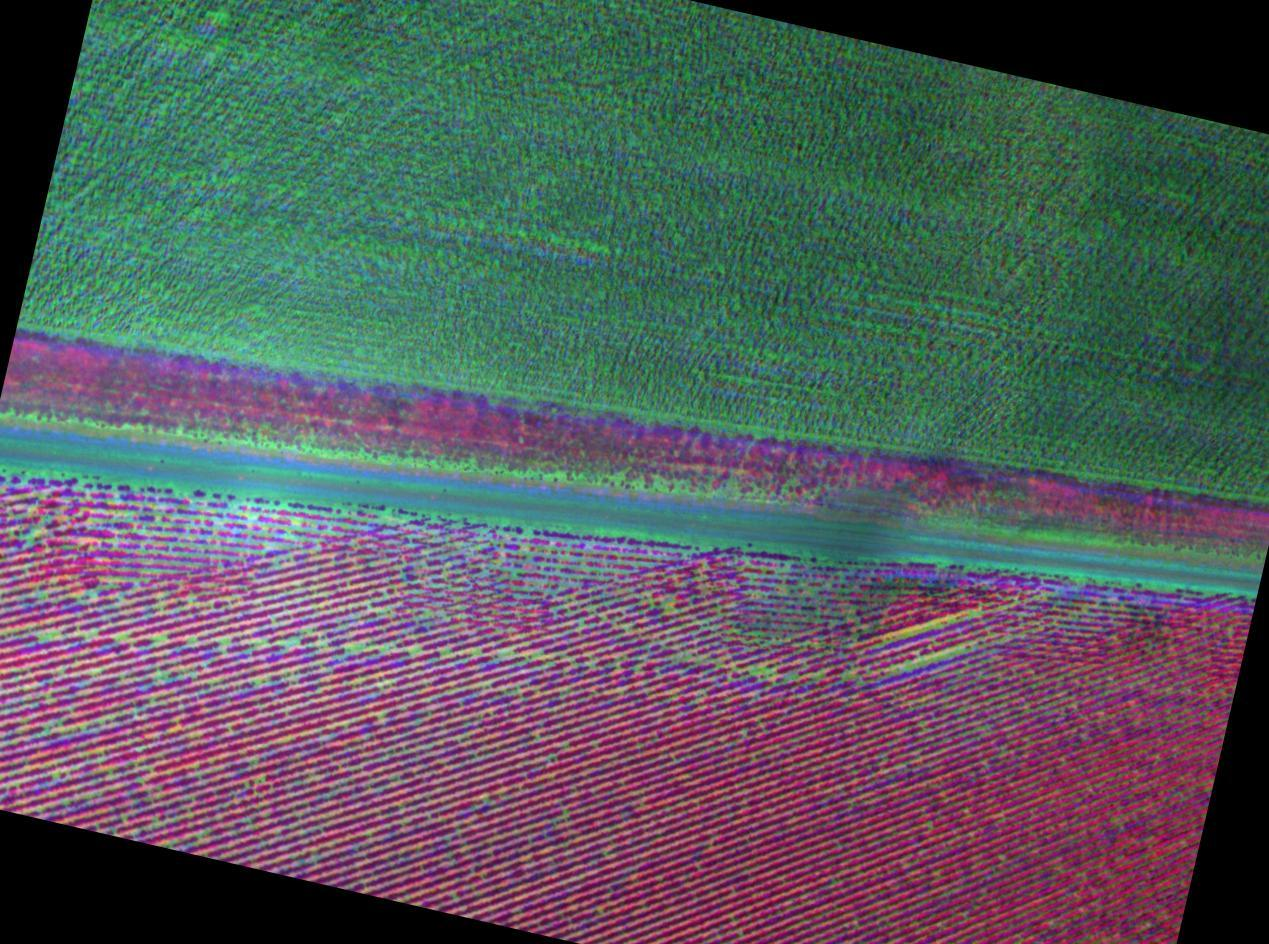dc: (502, 651, 507, 656), (907, 663, 912, 668), (757, 667, 761, 673), (497, 559, 502, 563), (942, 653, 946, 658), (414, 648, 418, 652), (913, 628, 916, 633), (421, 563, 425, 566), (529, 553, 532, 556)
